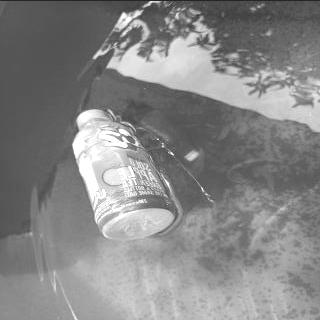bottle: (71, 107, 178, 240)
